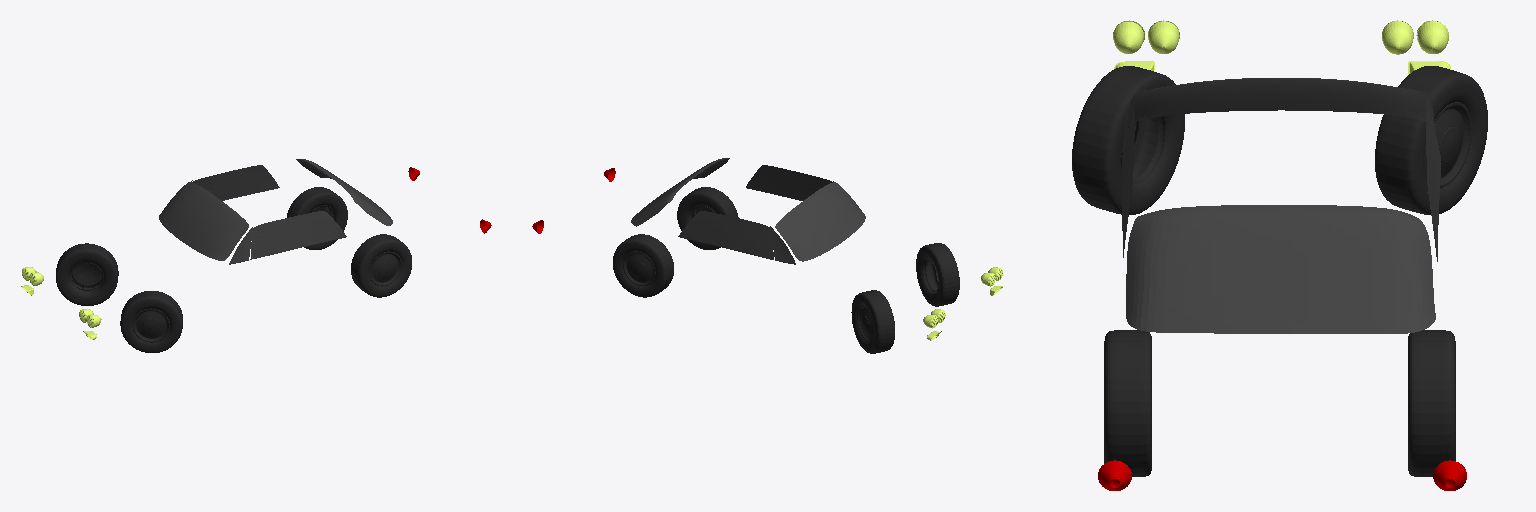
The robot description file, URDF, robot "vehicle_1":
<?xml version="1.0"?> 

<!-- Copyright 2023 [author] -->

<!-- Licensed under the Apache License, Version 2.0 (the "License"); -->
<!-- you may not use this file except in compliance with the License. -->
<!-- You may obtain a copy of the License at -->

<!--     http://www.apache.org/licenses/LICENSE-2.0 -->

<!-- Unless required by applicable law or agreed to in writing, software -->
<!-- distributed under the License is distributed on an "AS IS" BASIS, -->
<!-- WITHOUT WARRANTIES OR CONDITIONS OF ANY KIND, either express or implied. -->
<!-- See the License for the specific language governing permissions and -->
<!-- limitations under the License. -->

<!-- Authors: [author], [author] -->

<robot name="vehicle_1">
    <link name="vehicle_1">
        <visual>
            <origin xyz="0 0 -2.125" rpy="0 0 0" />
            <geometry>
                <mesh filename='meshes/vehicle_1body.stl' />
            </geometry>
            <material name="black">
                <color rgba="0 0 0.2 1"/>
            </material>
        </visual>
        <collision>
            <origin xyz="0 0 -2.125" rpy="0 0 0" />
            <geometry>
                <mesh filename='meshes/vehicle_1body.stl' />
            </geometry>
        </collision>
        <inertial>
            <mass value="10"/>
            <inertia ixx="0.4" ixy="0.0" ixz="0.0" iyy="0.4" iyz="0.0" izz="0.2" />
        </inertial>
    </link>
    <link name="wheels">
        <visual>
            <origin xyz="0 0 -2.125" rpy="0 0 0" />
            <geometry>
                <mesh filename='meshes/vehicle_1wheel.stl' />
            </geometry>
            <material name="black">
                <color rgba="0.2 0.2 0.2 1"/>
            </material>
        </visual>
        <collision>
            <origin xyz="0 0 -2.125" rpy="0 0 0" />
            <geometry>
                <mesh filename='meshes/vehicle_1wheel.stl' />
            </geometry>
        </collision>
        <inertial>
            <mass value="10"/>
            <inertia ixx="0.4" ixy="0.0" ixz="0.0" iyy="0.4" iyz="0.0" izz="0.2" />
        </inertial>
    </link>
    <joint name="wheel" type="fixed">
        <origin rpy="0 0 0" xyz="0 0 0"/>
        <parent link="vehicle_1"/>
        <child link="wheels"/>
    </joint>
    <link name="windows">
        <visual>
            <origin xyz="0 0 -2.125" rpy="0 0 0" />
            <geometry>
                <mesh filename='meshes/vehicle_1windows.stl' />
            </geometry>
            <material name="windowblack">
                <color rgba="0.3 0.3 0.3 1"/>
            </material>
        </visual>
        <collision>
            <origin xyz="0 0 -2.125" rpy="0 0 0" />
            <geometry>
                <mesh filename='meshes/vehicle_1windows.stl' />
            </geometry>
        </collision>
        <inertial>
            <mass value="10"/>
            <inertia ixx="0.4" ixy="0.0" ixz="0.0" iyy="0.4" iyz="0.0" izz="0.2" />
        </inertial>
    </link>
    <joint name="window" type="fixed">
        <origin rpy="0 0 0" xyz="0 0 0"/>
        <parent link="vehicle_1"/>
        <child link="windows"/>
    </joint>
    <link name="headlights">
        <visual>
            <origin xyz="0 0 -2.125" rpy="0 0 0" />
            <geometry>
                <mesh filename='meshes/vehicle_1headlights.stl' />
            </geometry>
            <material name="yellow">
                <color rgba="0.9 1 0.5 1"/>
            </material>
        </visual>
        <collision>
            <origin xyz="0 0 -2.125" rpy="0 0 0" />
            <geometry>
                <mesh filename='meshes/vehicle_1headlights.stl' />
            </geometry>
        </collision>
        <inertial>
            <mass value="10"/>
            <inertia ixx="0.4" ixy="0.0" ixz="0.0" iyy="0.4" iyz="0.0" izz="0.2" />
        </inertial>
    </link>
    <joint name="headlight" type="fixed">
        <origin rpy="0 0 0" xyz="0 0 0"/>
        <parent link="vehicle_1"/>
        <child link="headlights"/>
    </joint>
    <link name="rearlights">
        <visual>
            <origin xyz="0 0 -2.125" rpy="0 0 0" />
            <geometry>
                <mesh filename='meshes/vehicle_1rearlights.stl' />
            </geometry>
            <material name="red">
                <color rgba="0.8 0 0 1"/>
            </material>
        </visual>
        <collision>
            <origin xyz="0 0 -2.125" rpy="0 0 0" />
            <geometry>
                <mesh filename='meshes/vehicle_1rearlights.stl' />
            </geometry>
        </collision>
        <inertial>
            <mass value="10"/>
            <inertia ixx="0.4" ixy="0.0" ixz="0.0" iyy="0.4" iyz="0.0" izz="0.2" />
        </inertial>
    </link>
    <joint name="rearlight" type="fixed">
        <origin rpy="0 0 0" xyz="0 0 0"/>
        <parent link="vehicle_1"/>
        <child link="rearlights"/>
    </joint>
</robot>

--- What the picture shows (computed from the rendered views, not written in the file) ---
The picture shows the robot from 3 angles, left to right: view 1: azimuth 30°, elevation 25°; view 2: azimuth 150°, elevation 25°; view 3: azimuth 270°, elevation 25°; orthographic projection.
Robot: vehicle_1 — 5 links, 4 joints (4 fixed); root link vehicle_1; default pose: every joint at zero.
Links seen in each view (by area): view 1: wheels, windows, headlights; view 2: windows, wheels, headlights; view 3: windows, wheels, headlights, rearlights.
Boxes of the visible links, left/top/right/bottom form: wheels: left=56, top=187, right=411, bottom=352; windows: left=159, top=159, right=392, bottom=264; headlights: left=21, top=267, right=101, bottom=339; windows: left=631, top=158, right=865, bottom=264; wheels: left=613, top=187, right=959, bottom=353; headlights: left=923, top=267, right=1002, bottom=340; windows: left=1121, top=78, right=1440, bottom=333; wheels: left=1072, top=66, right=1487, bottom=476; headlights: left=1113, top=20, right=1450, bottom=74; rearlights: left=1098, top=460, right=1466, bottom=490.
Size in the robot's own frame: 6.41 by 2.47 by 1.59 metres.
Meshes: 5 distinct files referenced, 4 mesh visuals loaded (4 binary STL); not drawn: 1 (reference not matched to a file when rendering).
